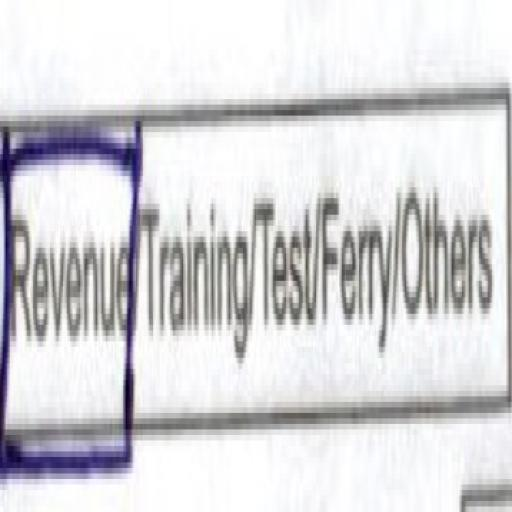check: (0, 49, 137, 512)
